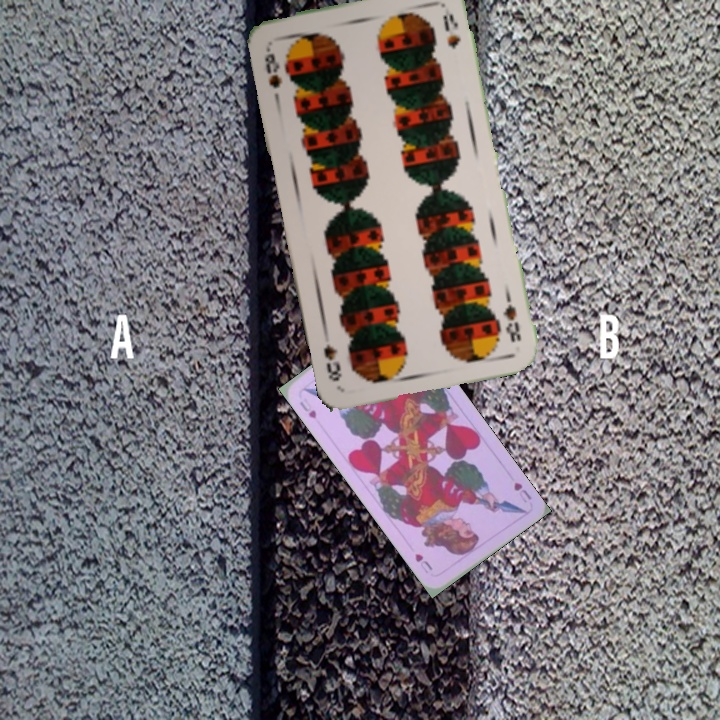HU: (509, 478, 534, 506), (295, 394, 319, 421)
S8: (498, 288, 524, 345), (260, 43, 285, 91)
